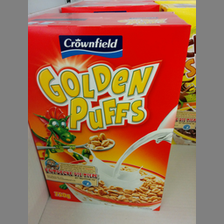cereal: (28, 11, 192, 211)
